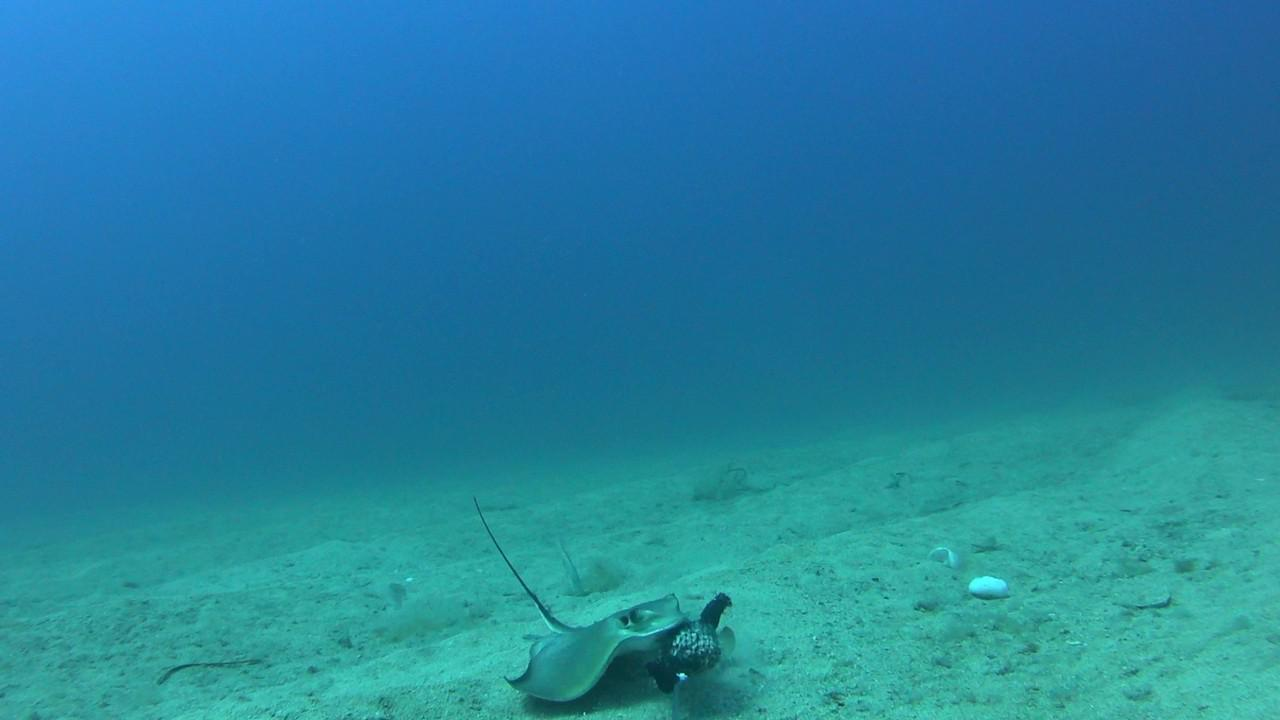myliobatis: (443, 478, 758, 705)
